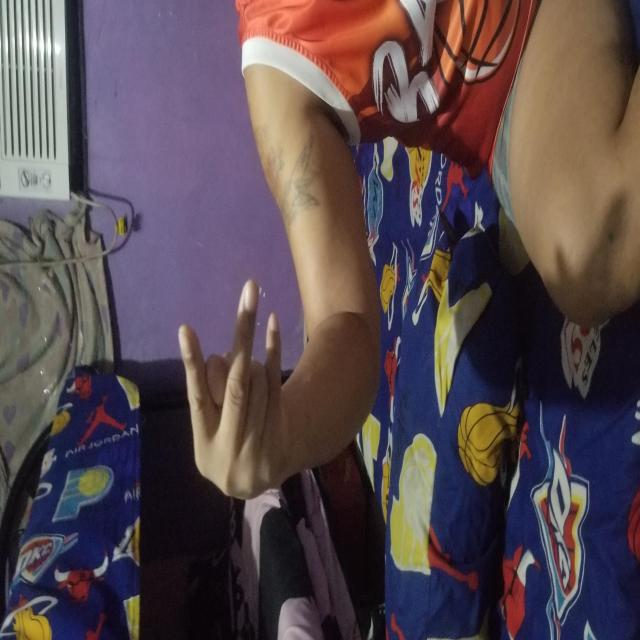K: (138, 177, 362, 282)
